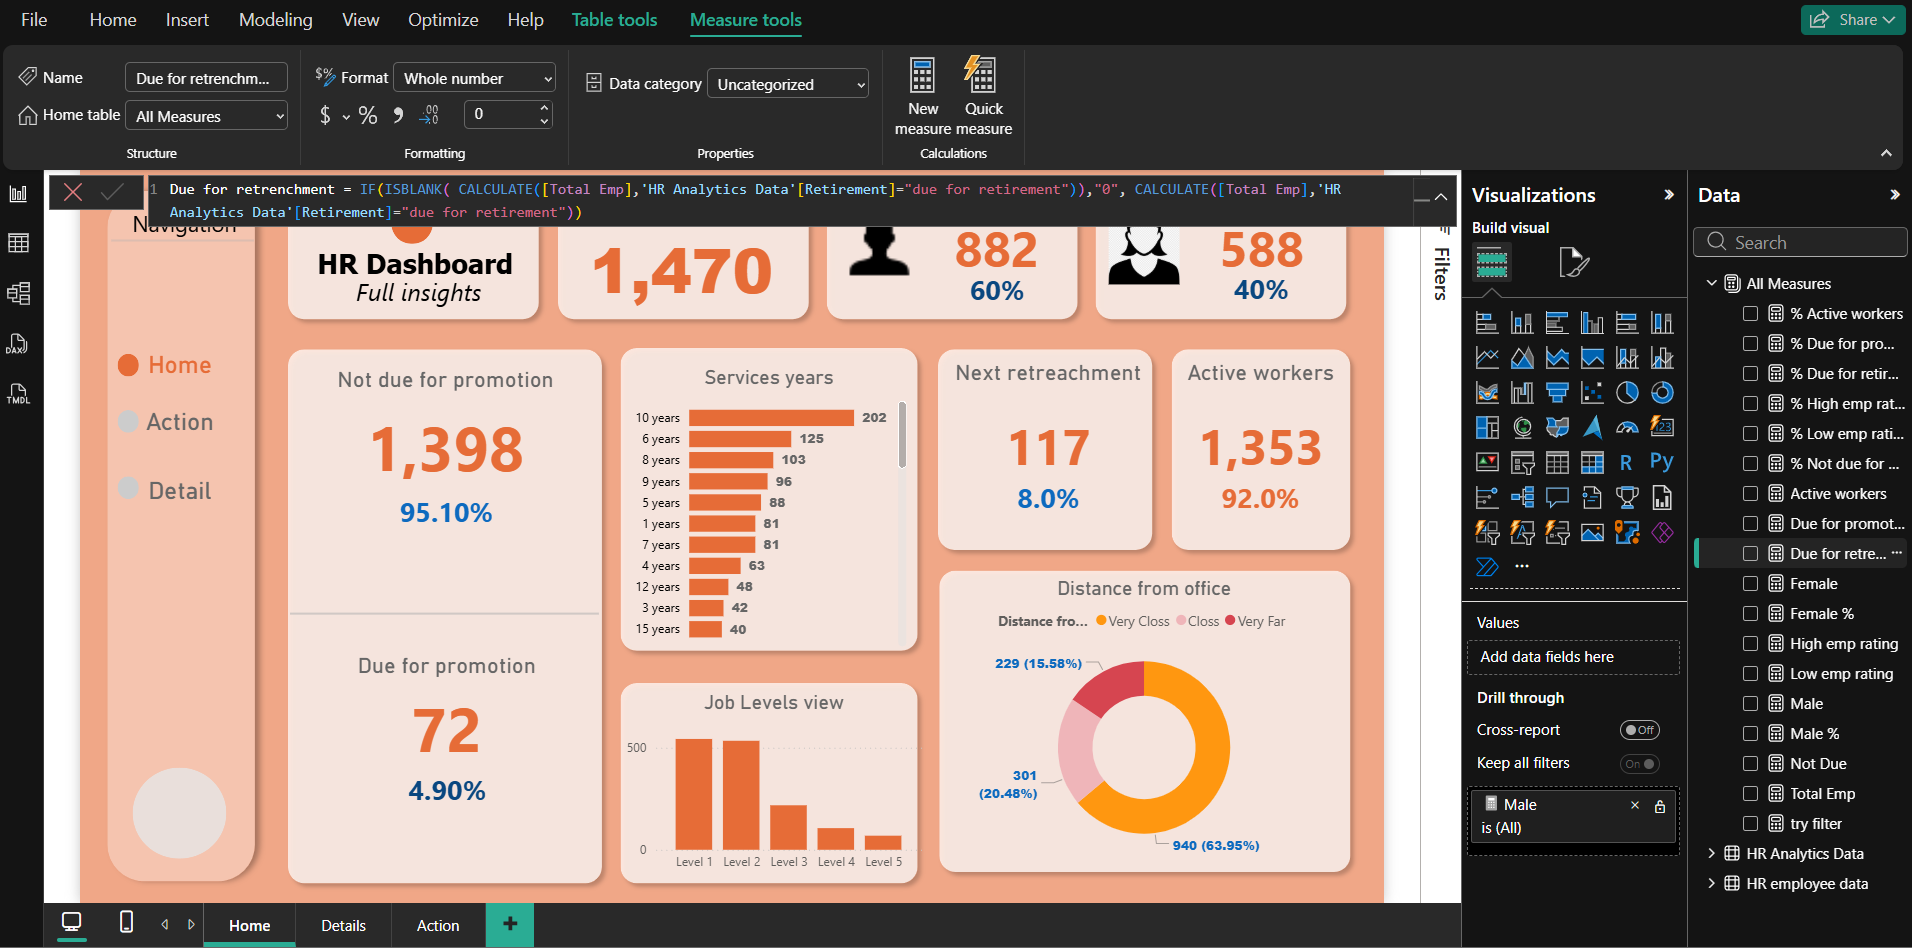

This screenshot's page, from the dashboard's own definition file:
{"tool":"powerbi","page":{"name":"Home","canvas":[1280,720],"ordinal":0},"visuals":[{"type":"shape","box":[16.5,9.6,166.5,699.2],"z":0},{"type":"shape","box":[195.4,12.4,264.3,143.1],"z":1000},{"type":"shape","box":[459.7,12.4,264.3,143.1],"z":2000},{"type":"shape","box":[724,12.4,264.3,143.1],"z":3000},{"type":"shape","box":[988.2,12.4,264.3,143.1],"z":4000},{"type":"shape","box":[195.4,166.5,326.2,542.3],"z":5000},{"type":"shape","box":[521.6,166.2,309.7,315.2],"z":6000},{"type":"shape","box":[521.6,494.1,309.7,214.7],"z":7000},{"type":"shape","box":[834.8,384.2,421.6,314.1],"z":8000},{"type":"shape","box":[833.6,166.7,228.3,215],"z":9000},{"type":"shape","box":[1063.1,166.7,193.3,215],"z":10000},{"type":"textbox","box":[209.7,71.2,238.7,51.4],"z":11000},{"type":"textbox","box":[36.8,33.1,131.3,51.5],"z":12000},{"type":"textbox","box":[209.7,97.6,251.9,55.4],"z":13000},{"type":"shape","box":[305.9,33,40.9,39.6],"z":14000},{"type":"card","title":"Total Employees","fields":{"Values":["All Measures.Total Emp"]},"box":[468,27.5,246.4,112.9],"z":15000},{"type":"card","title":"Male","fields":{"Values":["All Measures.Male"]},"box":[814.8,26.2,170.7,75.7],"z":16000},{"type":"card","fields":{"Values":["All Measures.Male %"]},"box":[834.1,90.8,132.1,55.1],"z":17000},{"type":"card","title":"Female","fields":{"Values":["All Measures.Female"]},"box":[1068.7,26.2,183.1,75.7],"z":18000},{"type":"card","fields":{"Values":["All Measures.Female %"]},"box":[1083.9,90.8,152.8,53.7],"z":19000},{"type":"image","box":[736.3,26.2,95,90.8],"z":20000},{"type":"actionButton","title":"Home","box":[27.8,176.4,140.1,30.2],"z":21000},{"type":"image","box":[1004.7,33,79.8,84],"z":22000},{"type":"actionButton","title":"Action","box":[27.7,233.4,139.8,56.7],"z":23000},{"type":"card","title":"Active workers","fields":{"Values":["All Measures.On service"]},"box":[1058.3,186,203,142.6],"z":24000},{"type":"actionButton","title":"Detail","box":[28.2,282.2,138.7,57.7],"z":25000},{"type":"card","fields":{"Values":["All Measures.% Active workers"]},"box":[1082.4,296,153.4,53.2],"z":26000},{"type":"card","title":"Next retreachment","fields":{"Values":["All Measures.Due for retirment"]},"box":[843.2,186,215,142.6],"z":27000},{"type":"card","fields":{"Values":["All Measures.%Due for retirment"]},"box":[865,296,171.5,53.2],"z":28000},{"type":"columnChart","title":"Job Levels view","fields":{"Category":["HR Analytics Data.Job Level"],"Y":["All Measures.Total Emp"]},"box":[531.3,512,300,185.8],"z":29000},{"type":"barChart","title":"Services years","fields":{"Category":["HR Analytics Data.Total working Years"],"Y":["All Measures.Total Emp"]},"box":[536.4,192.1,280.3,280.3],"z":30000},{"type":"donutChart","title":"Distance from office","fields":{"Category":["HR Analytics Data.Distance from office"],"Y":["All Measures.Total Emp"]},"box":[840.8,399.9,408.3,282.7],"z":31000},{"type":"card","title":"Not due for promotion","fields":{"Values":["All Measures.Not Due"]},"box":[207.8,192.1,303.2,130.5],"z":32000},{"type":"card","title":"Due for promotion","fields":{"Values":["All Measures.Due for promotion"]},"box":[209,473.8,303.2,119.6],"z":33000},{"type":"shape","box":[206.6,427.7,303.2,14.5],"z":34000},{"type":"card","fields":{"Values":["All Measures.% Not due for promotion"]},"box":[283.5,309.7,152.8,53.7],"z":35000},{"type":"card","fields":{"Values":["All Measures.% Due for promotion"]},"box":[285.1,582.5,152.2,53.2],"z":36000},{"type":"shape","box":[36.9,180.7,21.1,22.4],"z":37000},{"type":"shape","box":[36.9,236,21.1,22.4],"z":38000},{"type":"shape","box":[36.8,287.1,20.9,22.1],"z":39000},{"type":"shape","box":[51.4,586.8,92.3,89.7],"z":40000},{"type":"shape","box":[30.2,61.6,140.1,15.7],"z":41000}]}

Visuals, with their boxes on the page's 1280x720 design canvas (x1, y1, x2, y2). These are canvas units, not pixel positions in the 1912x948 screenshot, which may show the page scaled, cropped or inside an application window:
shape: (16,10,183,709)
shape: (195,12,460,156)
shape: (460,12,724,156)
shape: (724,12,988,156)
shape: (988,12,1252,156)
shape: (195,166,522,709)
shape: (522,166,831,481)
shape: (522,494,831,709)
shape: (835,384,1256,698)
shape: (834,167,1062,382)
shape: (1063,167,1256,382)
textbox: (210,71,448,123)
textbox: (37,33,168,85)
textbox: (210,98,462,153)
shape: (306,33,347,73)
"Total Employees" card: (468,28,714,140)
"Male" card: (815,26,986,102)
card - All Measures.Male %: (834,91,966,146)
"Female" card: (1069,26,1252,102)
card - All Measures.Female %: (1084,91,1237,144)
image: (736,26,831,117)
"Home" actionButton: (28,176,168,207)
image: (1005,33,1084,117)
"Action" actionButton: (28,233,168,290)
"Active workers" card: (1058,186,1261,329)
"Detail" actionButton: (28,282,167,340)
card - All Measures.% Active workers: (1082,296,1236,349)
"Next retreachment" card: (843,186,1058,329)
card - All Measures.%Due for retirment: (865,296,1036,349)
"Job Levels view" columnChart: (531,512,831,698)
"Services years" barChart: (536,192,817,472)
"Distance from office" donutChart: (841,400,1249,683)
"Not due for promotion" card: (208,192,511,323)
"Due for promotion" card: (209,474,512,593)
shape: (207,428,510,442)
card - All Measures.% Not due for promotion: (284,310,436,363)
card - All Measures.% Due for promotion: (285,582,437,636)
shape: (37,181,58,203)
shape: (37,236,58,258)
shape: (37,287,58,309)
shape: (51,587,144,676)
shape: (30,62,170,77)
